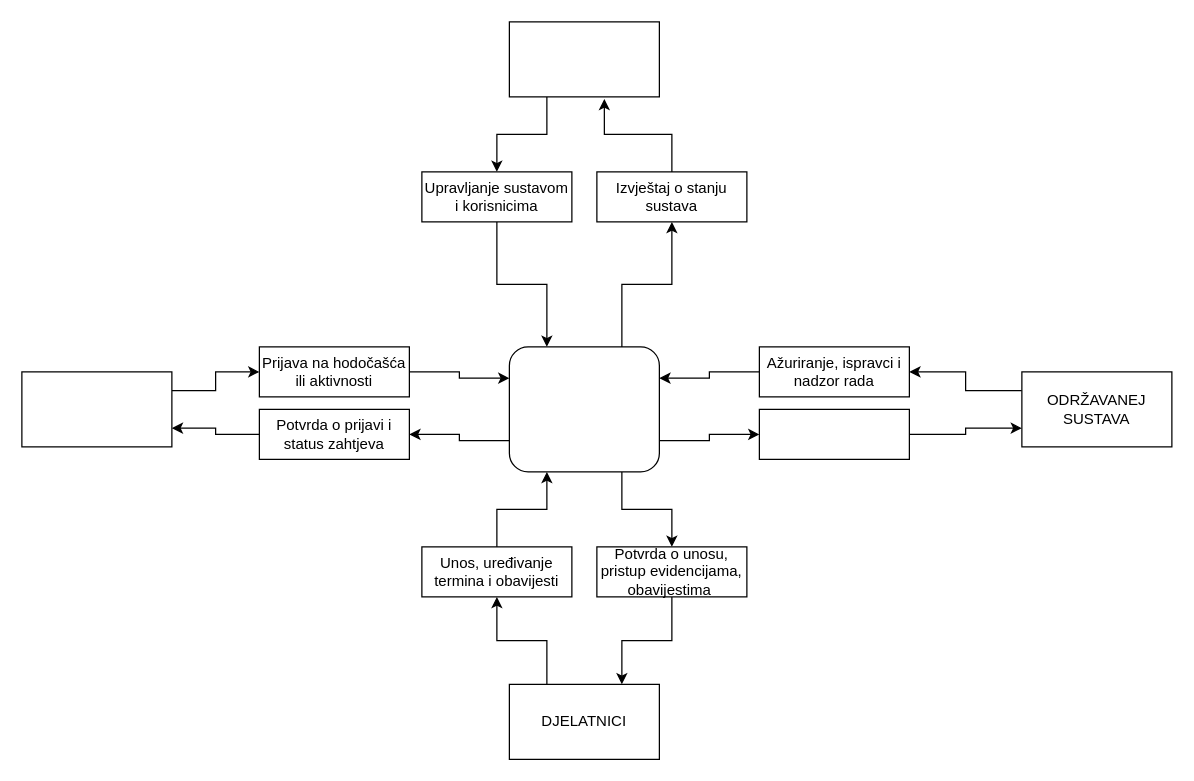
This 1194x781 diagram has some shape labels left out. The centre of each missing label's shape, as x and y in pixels:
"ADMINISTRATOR" belongs at (583,59).
"Informacijski sustav za župni ured" belongs at (583,409).
"KORISNICI" belongs at (96,409).
"Status sustava i prijava grešaka" belongs at (833,433).
